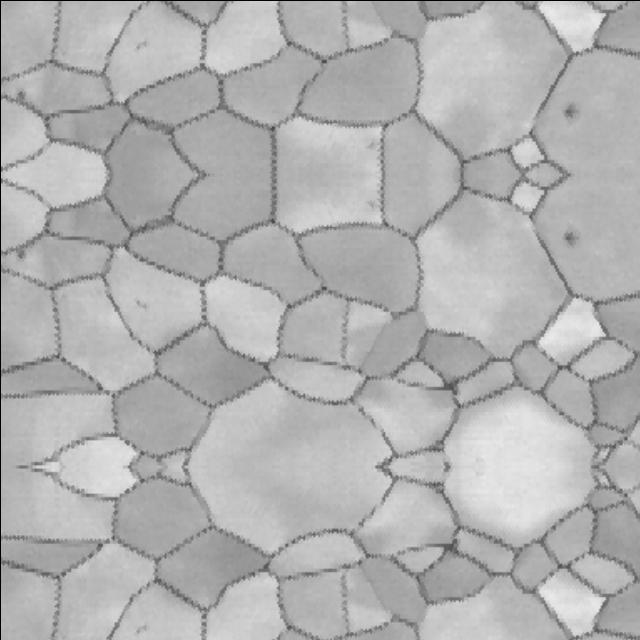good_void: (128, 293, 160, 320), (128, 29, 160, 56), (128, 614, 160, 640), (559, 223, 580, 243), (559, 106, 580, 126), (12, 86, 27, 102), (12, 248, 27, 263)
